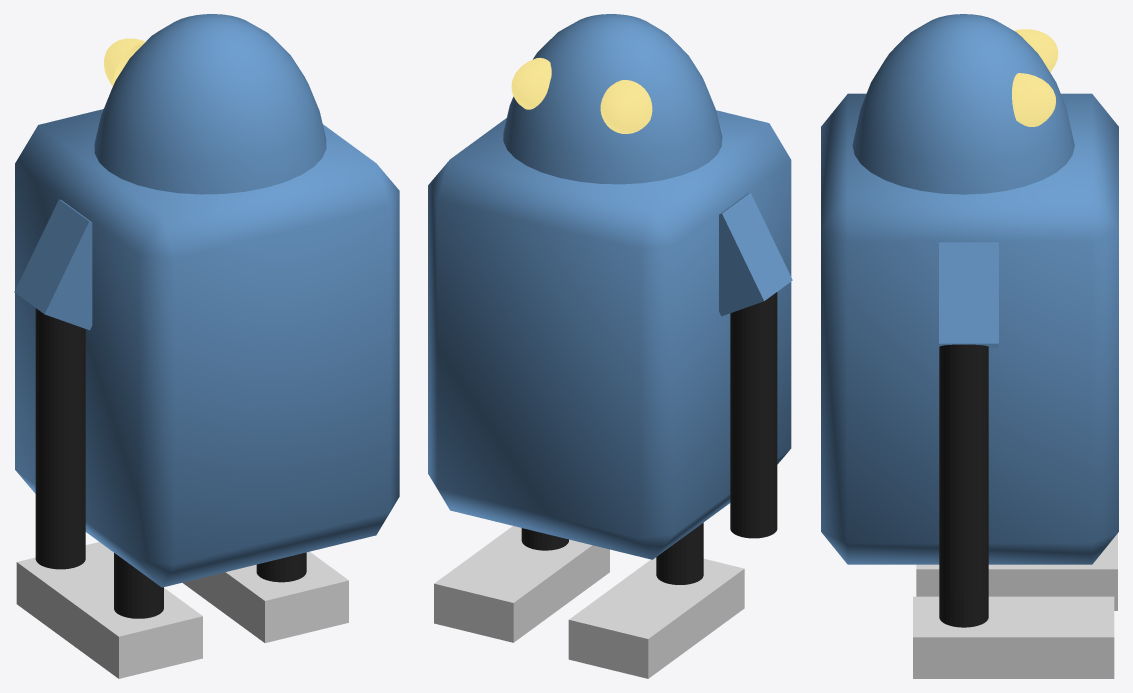
File: bot_boi _v1.glb
The picture shows the model from 3 angles, left to right: view 1: azimuth 30°, elevation 25°; view 2: azimuth 150°, elevation 25°; view 3: azimuth 270°, elevation 25°; orthographic projection. The views are drawn at different scales.
Parts seen in each view (by area): view 1: Cube; view 2: Cube; view 3: Cube.
Part boxes in pixels (<box>): Cube: <box>14,14,399,678</box>; Cube: <box>428,14,792,678</box>; Cube: <box>821,14,1118,678</box>.
Bounding box in the file's own units: 2.44 × 4.04 × 1.8.
